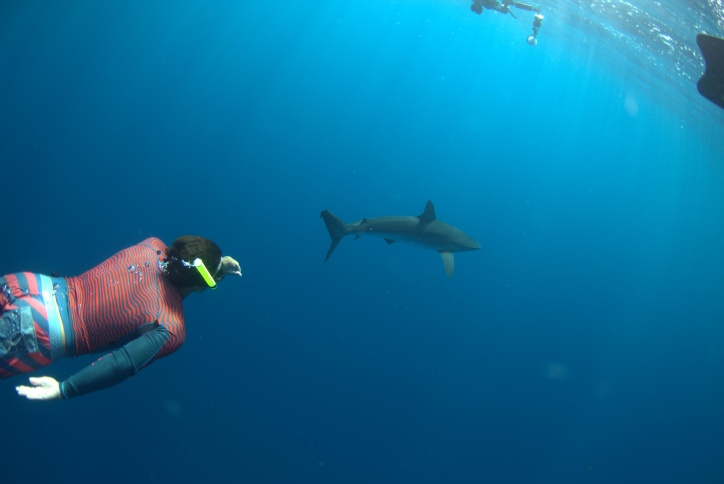Sedoso: (288, 189, 495, 285)
